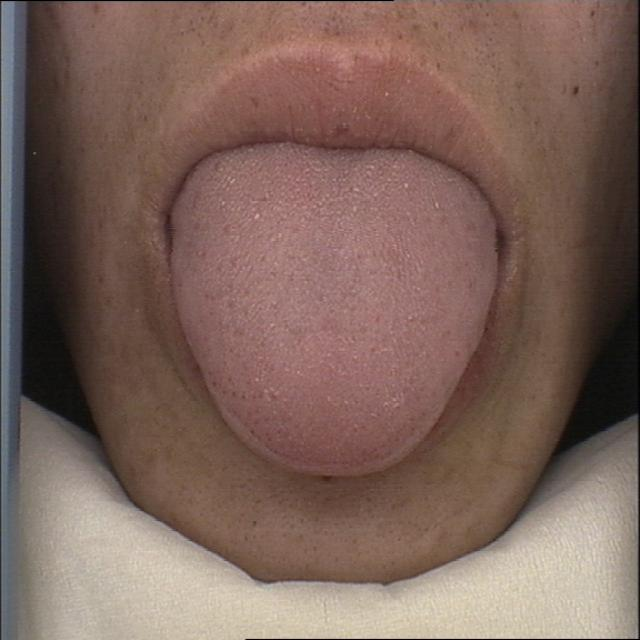tongue: (160, 152, 507, 489)
